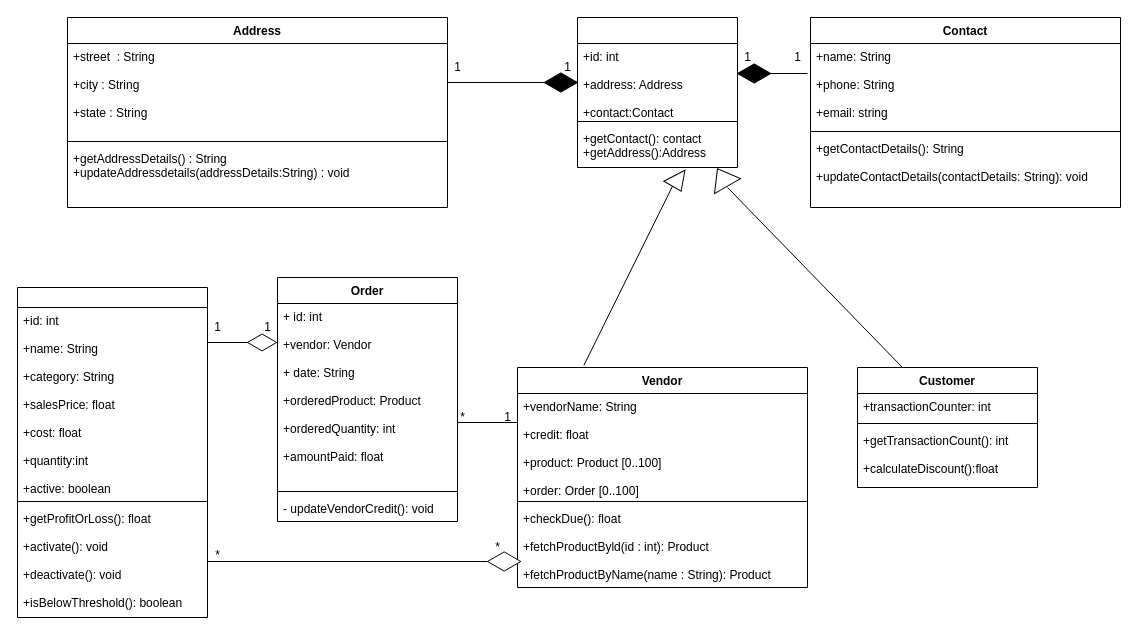
Image size: 1138x638. Some labels were removed from this diagram. The box of each missing label's shape, as (x1, y1, x2, y2) in pixels:
BusinessPartner: (576, 16, 738, 168)
Product: (16, 286, 208, 618)
